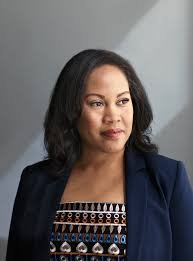black_female: (54, 50, 165, 166)
